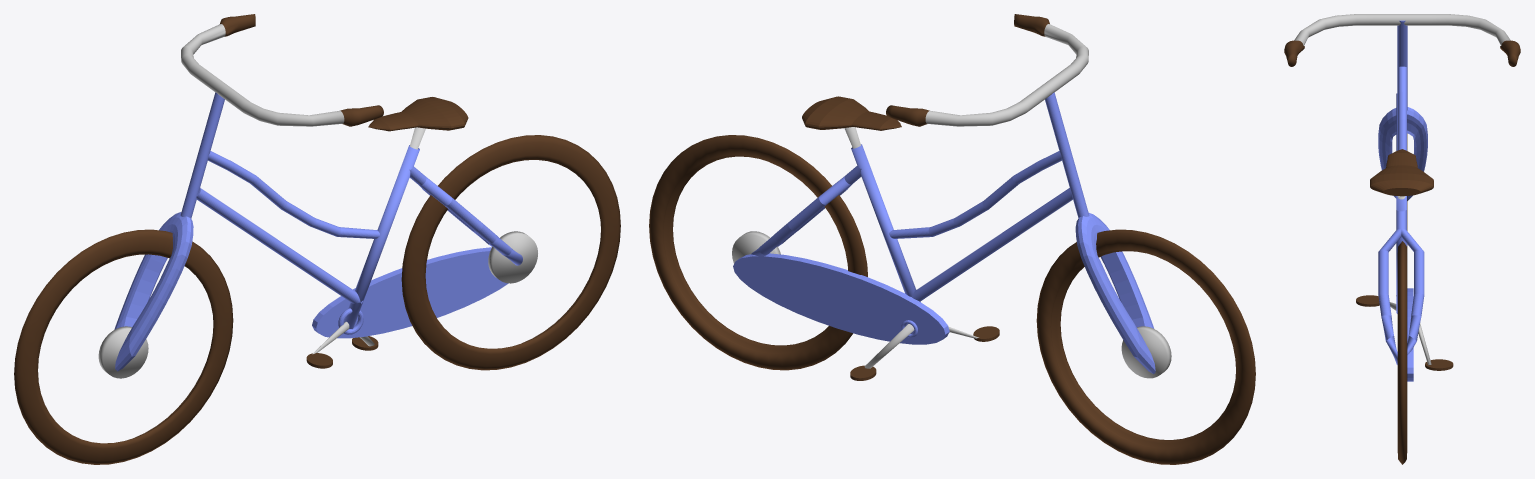
The model's file is fietsblauw.fbx.
3 views of the same model, side by side, from view 1: azimuth 30°, elevation 25°; view 2: azimuth 150°, elevation 25°; view 3: azimuth 270°, elevation 25° (orthographic). The views are drawn at different scales.
Parts seen in each view (by area): view 1: Torus.001, Torus.002, Cylinder.005, Torus.004, Cylinder.004, Cylinder, Cylinder.003, Cone, Cylinder.001, Cylinder.006, Cylinder.007, Cylinder.002 (+1 smaller); view 2: Torus.002, Torus.001, Cylinder.005, Torus.004, Cylinder.004, Cylinder.003, Cone, Cylinder, Cylinder.001, Cylinder.006, Cylinder.002, Cylinder.009 (+1 smaller); view 3: Cylinder.004, Cylinder.006, Torus.001, Cone, Torus.004, Cylinder.001, Cylinder.002, Cylinder.005, Cylinder, Cylinder.011, Cylinder.010.
Boxes of the visible parts, bbox=[...] form: Torus.001: bbox=[401, 135, 620, 370]; Torus.002: bbox=[14, 229, 233, 464]; Cylinder.005: bbox=[312, 247, 508, 338]; Torus.004: bbox=[114, 212, 193, 371]; Cylinder.004: bbox=[181, 14, 383, 126]; Cylinder: bbox=[344, 127, 425, 329]; Cylinder.003: bbox=[196, 188, 362, 303]; Cone: bbox=[368, 97, 468, 131]; Cylinder.001: bbox=[208, 151, 379, 238]; Cylinder.006: bbox=[409, 166, 522, 265]; Cylinder.007: bbox=[488, 231, 537, 283]; Cylinder.002: bbox=[180, 92, 224, 218]; Torus.002: bbox=[1036, 229, 1255, 464]; Torus.001: bbox=[649, 135, 867, 370]; Cylinder.005: bbox=[733, 253, 949, 344]; Torus.004: bbox=[1075, 213, 1155, 373]; Cylinder.004: bbox=[886, 14, 1088, 126]; Cylinder.003: bbox=[912, 188, 1072, 301]; Cone: bbox=[802, 96, 901, 130]; Cylinder: bbox=[844, 127, 920, 301]; Cylinder.001: bbox=[889, 151, 1061, 238]; Cylinder.006: bbox=[751, 166, 861, 256]; Cylinder.002: bbox=[1045, 92, 1089, 218]; Cylinder.009: bbox=[1121, 326, 1171, 378]; Cylinder.004: bbox=[1284, 14, 1520, 66]; Cylinder.006: bbox=[1378, 210, 1424, 364]; Torus.001: bbox=[1397, 241, 1407, 464]; Cone: bbox=[1370, 149, 1433, 196]; Torus.004: bbox=[1378, 107, 1427, 200]; Cylinder.001: bbox=[1398, 66, 1406, 246]; Cylinder.002: bbox=[1397, 20, 1407, 110]; Cylinder.005: bbox=[1407, 288, 1413, 381]; Cylinder: bbox=[1396, 196, 1406, 313]; Cylinder.011: bbox=[1425, 359, 1453, 370]; Cylinder.010: bbox=[1356, 295, 1379, 306].
Size of the model in its own units: 285 by 160 by 109.
